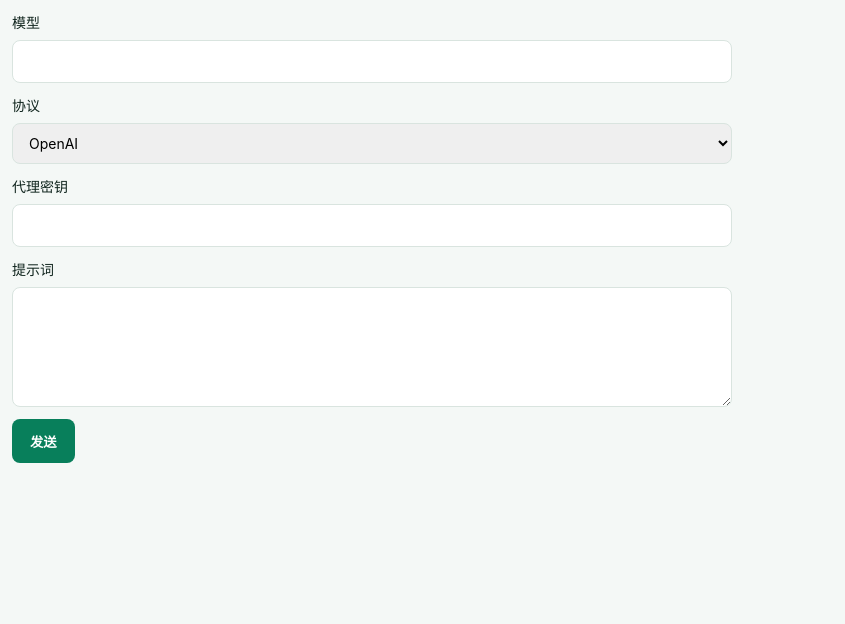
Test: streams deltas into the conversation and exposes distinct error states
Type "hello" into the text box named "prompt".
click(372, 347); type("hello")  # box [12, 287, 732, 407]
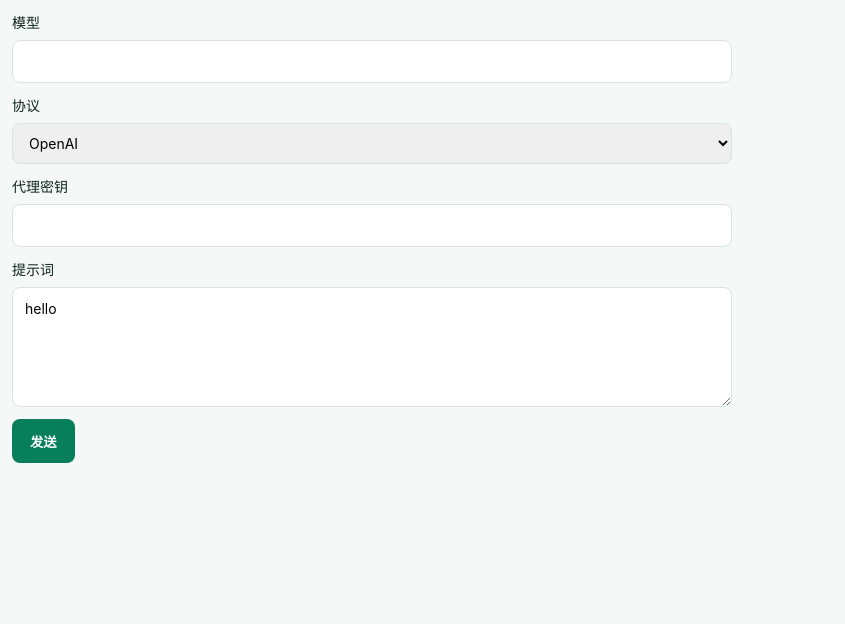
Click the button "发送".
click(43, 441)  # box [12, 419, 75, 463]
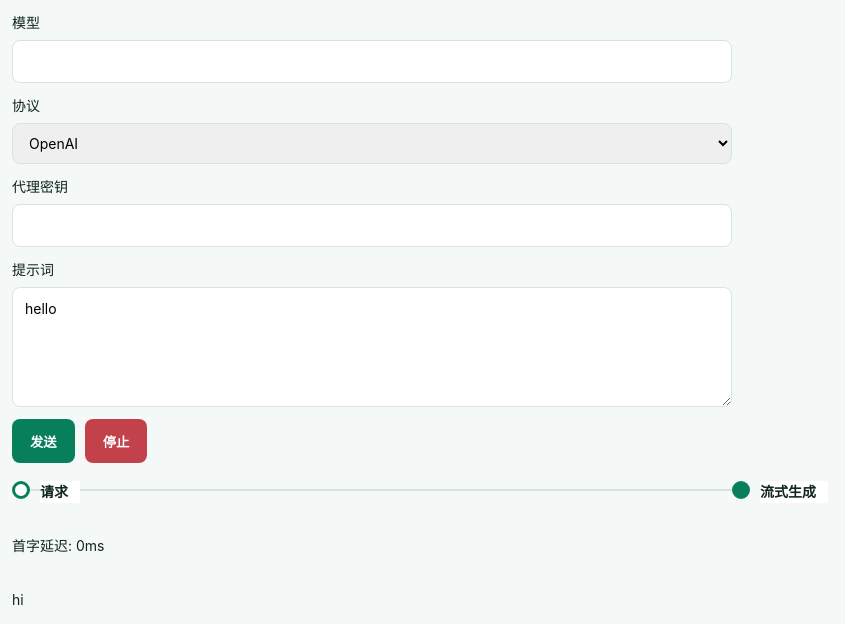
expect the text "hi" is shown: met, box [12, 590, 24, 608]
